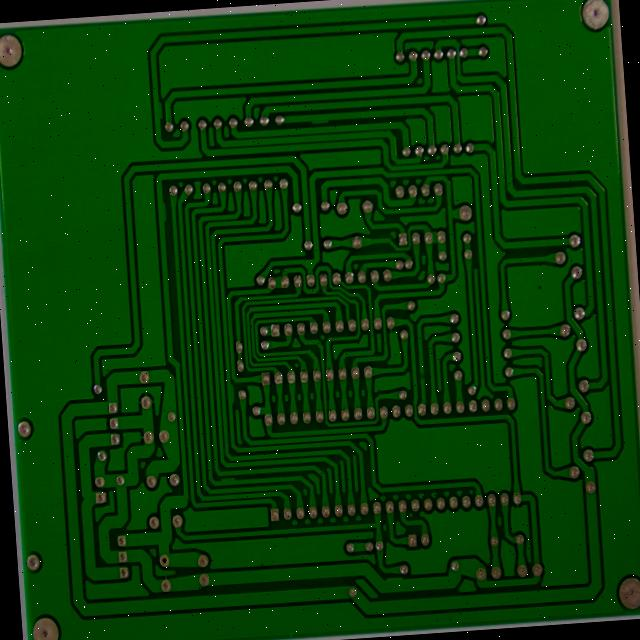spur: (120, 220, 135, 254), (281, 127, 311, 143), (115, 108, 130, 137), (196, 426, 209, 459), (187, 533, 208, 545)
